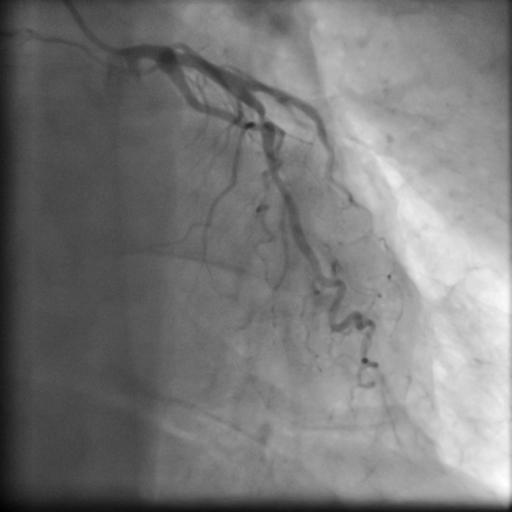Stenosis: (245, 113, 270, 136)
